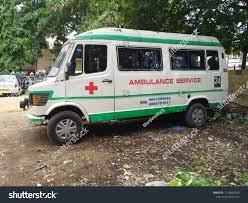Emergency-Vehicles: (25, 27, 229, 132)
